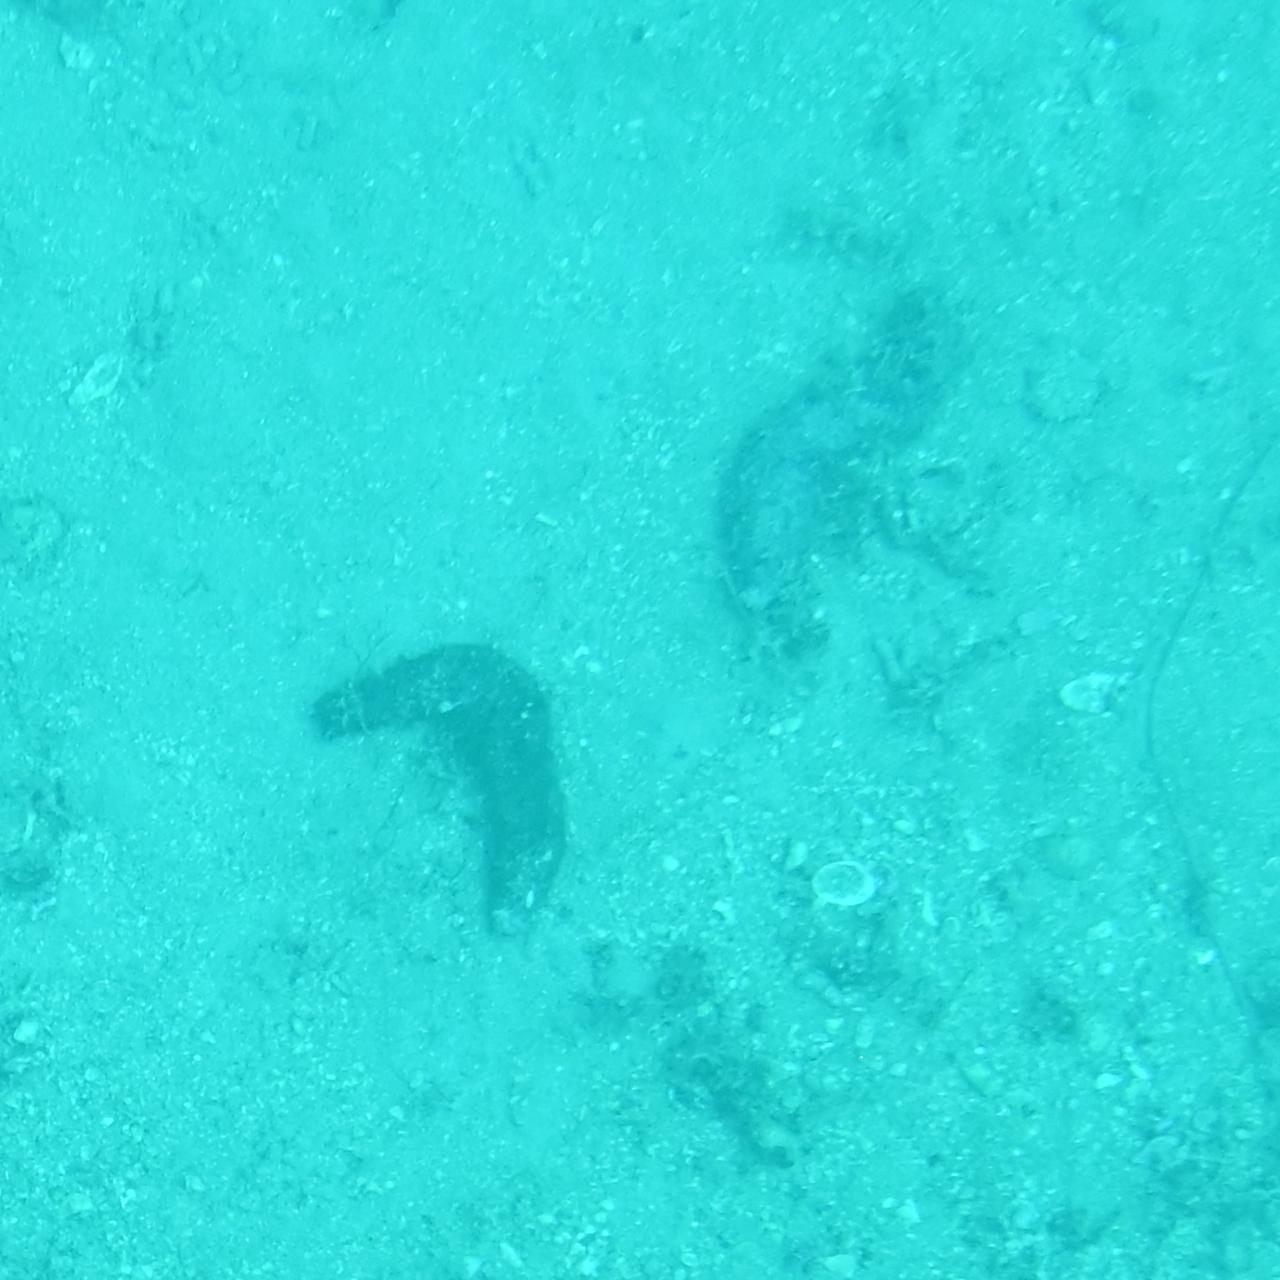Holothuria tubulosa: (302, 635, 572, 953), (728, 302, 959, 669)
